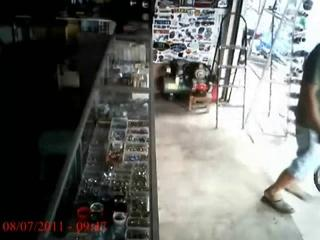Normal: (262, 40, 320, 214)
